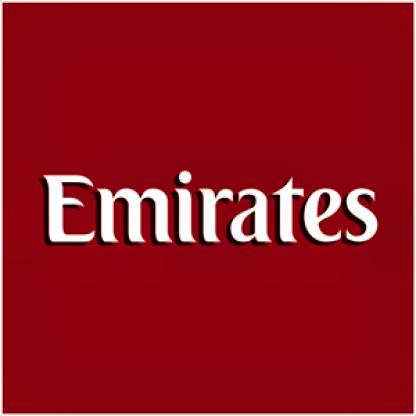Emirates: (39, 172, 379, 247)
